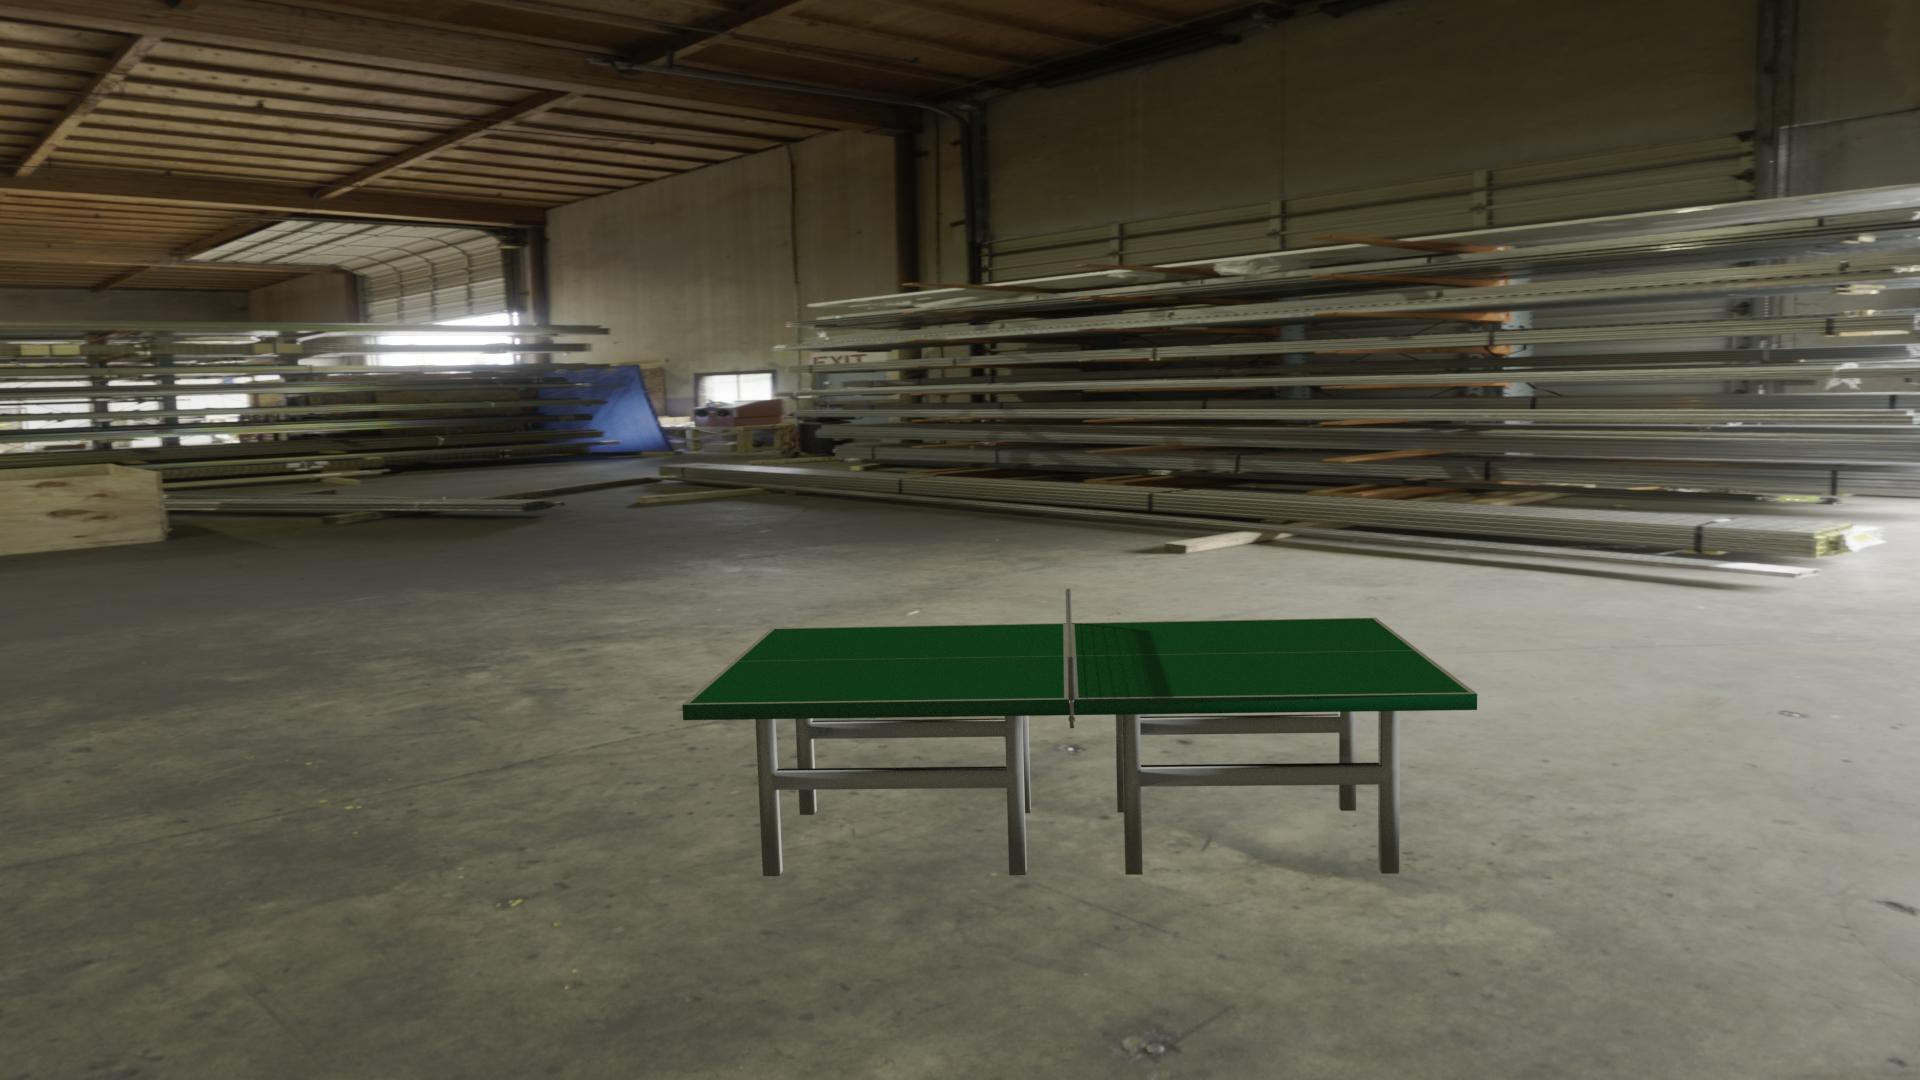table: (690, 618, 1469, 703)
